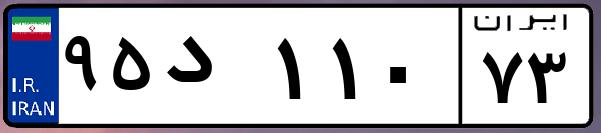0: (385, 28, 445, 110)
1: (270, 28, 330, 110), (330, 28, 385, 110)
3: (525, 38, 570, 115)
5: (110, 28, 158, 98)
7: (475, 38, 525, 113)
9: (57, 26, 110, 100)
د: (158, 20, 270, 120)
